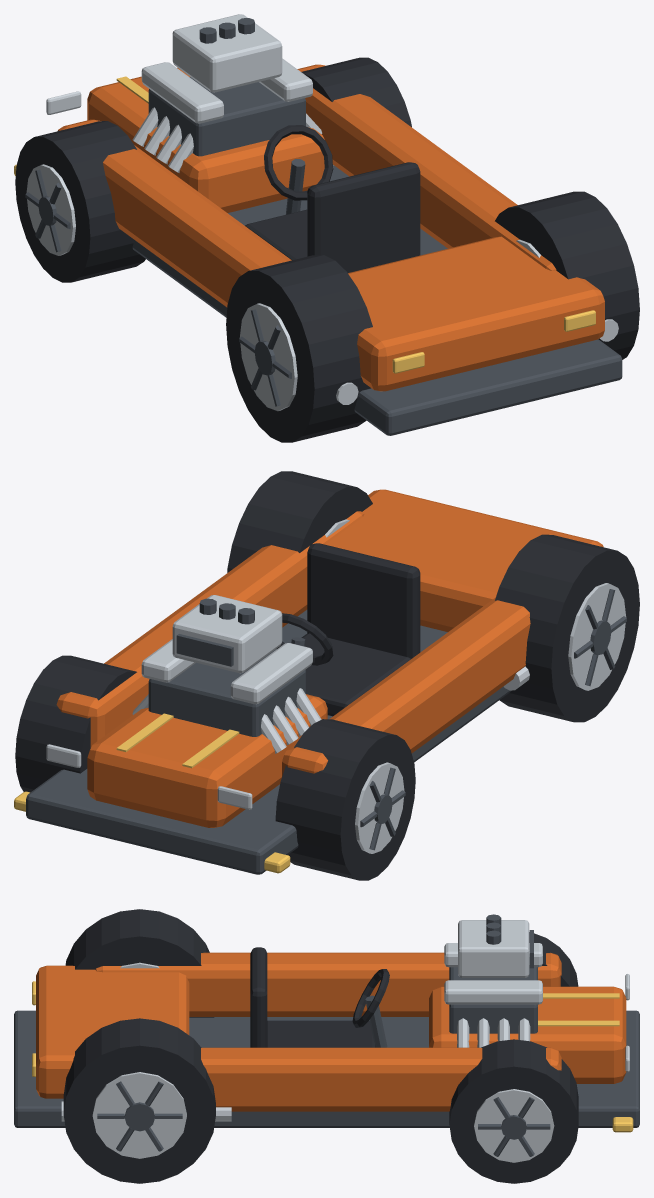
Rendered from blowerrod.fbx.
3 renders of one model, top to bottom at view 1: azimuth 30°, elevation 25°; view 2: azimuth 150°, elevation 25°; view 3: azimuth 270°, elevation 25°, orthographic. The views are drawn at different scales.
Visible parts, largest first — view 1: PaintRearDeck, WheelRL, WheelFL, Chassis, PaintSidePod.001, PaintSidePod, WheelRR, SeatBack, PaintNose, EngineBlock, EngineIntake, WheelFR (+6 smaller); view 2: WheelRL, WheelFL, PaintNose, PaintRearDeck, PaintSidePod, Chassis, SeatBack, PaintSidePod.001, WheelFR, WheelRR, EngineBlock, EngineIntake (+10 smaller); view 3: WheelRR, PaintSidePod.001, PaintSidePod, WheelFR, Chassis, PaintRearDeck, PaintNose, WheelRL, EngineIntake, Seat, EngineBlock, ValveCover.001 (+7 smaller).
Boxes of the visible parts, box(x1,y1,x2,y2) form: PaintRearDeck: box(348, 236, 604, 391); WheelRL: box(226, 255, 372, 442); WheelFL: box(15, 121, 145, 282); Chassis: box(132, 165, 622, 435); PaintSidePod.001: box(297, 64, 556, 270); PaintSidePod: box(58, 119, 291, 307); WheelRR: box(495, 191, 639, 359); SeatBack: box(307, 162, 420, 272); PaintNose: box(87, 67, 324, 212); EngineBlock: box(148, 77, 305, 156); EngineIntake: box(172, 14, 282, 92); WheelFR: box(301, 57, 411, 165); WheelRL: box(495, 534, 639, 722); WheelFL: box(275, 719, 415, 880); PaintNose: box(87, 694, 327, 827); PaintRearDeck: box(325, 489, 603, 631); PaintSidePod: box(282, 597, 530, 776); Chassis: box(26, 610, 510, 874); SeatBack: box(307, 543, 420, 658); PaintSidePod.001: box(56, 511, 364, 747); WheelFR: box(15, 655, 136, 792); WheelRR: box(227, 471, 372, 572); EngineBlock: box(148, 657, 305, 736); EngineIntake: box(172, 595, 282, 673); WheelRR: box(63, 1018, 215, 1183); PaintSidePod.001: box(201, 1047, 561, 1111); PaintSidePod: box(95, 952, 561, 1016); WheelFR: box(449, 1039, 578, 1183); Chassis: box(14, 1010, 639, 1127); PaintRearDeck: box(36, 965, 189, 1098); PaintNose: box(429, 986, 626, 1083); WheelRL: box(65, 909, 214, 1017); EngineIntake: box(458, 920, 529, 977); Seat: box(267, 1020, 376, 1047); EngineBlock: box(449, 967, 537, 1033); ValveCover.001: box(444, 980, 542, 1004).
Size of the model in its own units: 495 by 308 by 920.
